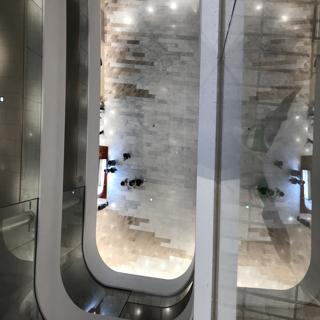person: (114, 174, 132, 192), (136, 170, 150, 191)
